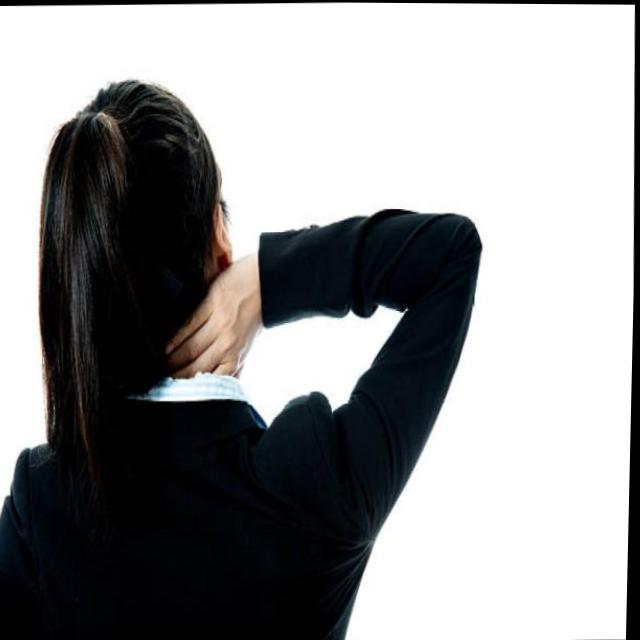no helmet: (31, 80, 242, 390)
